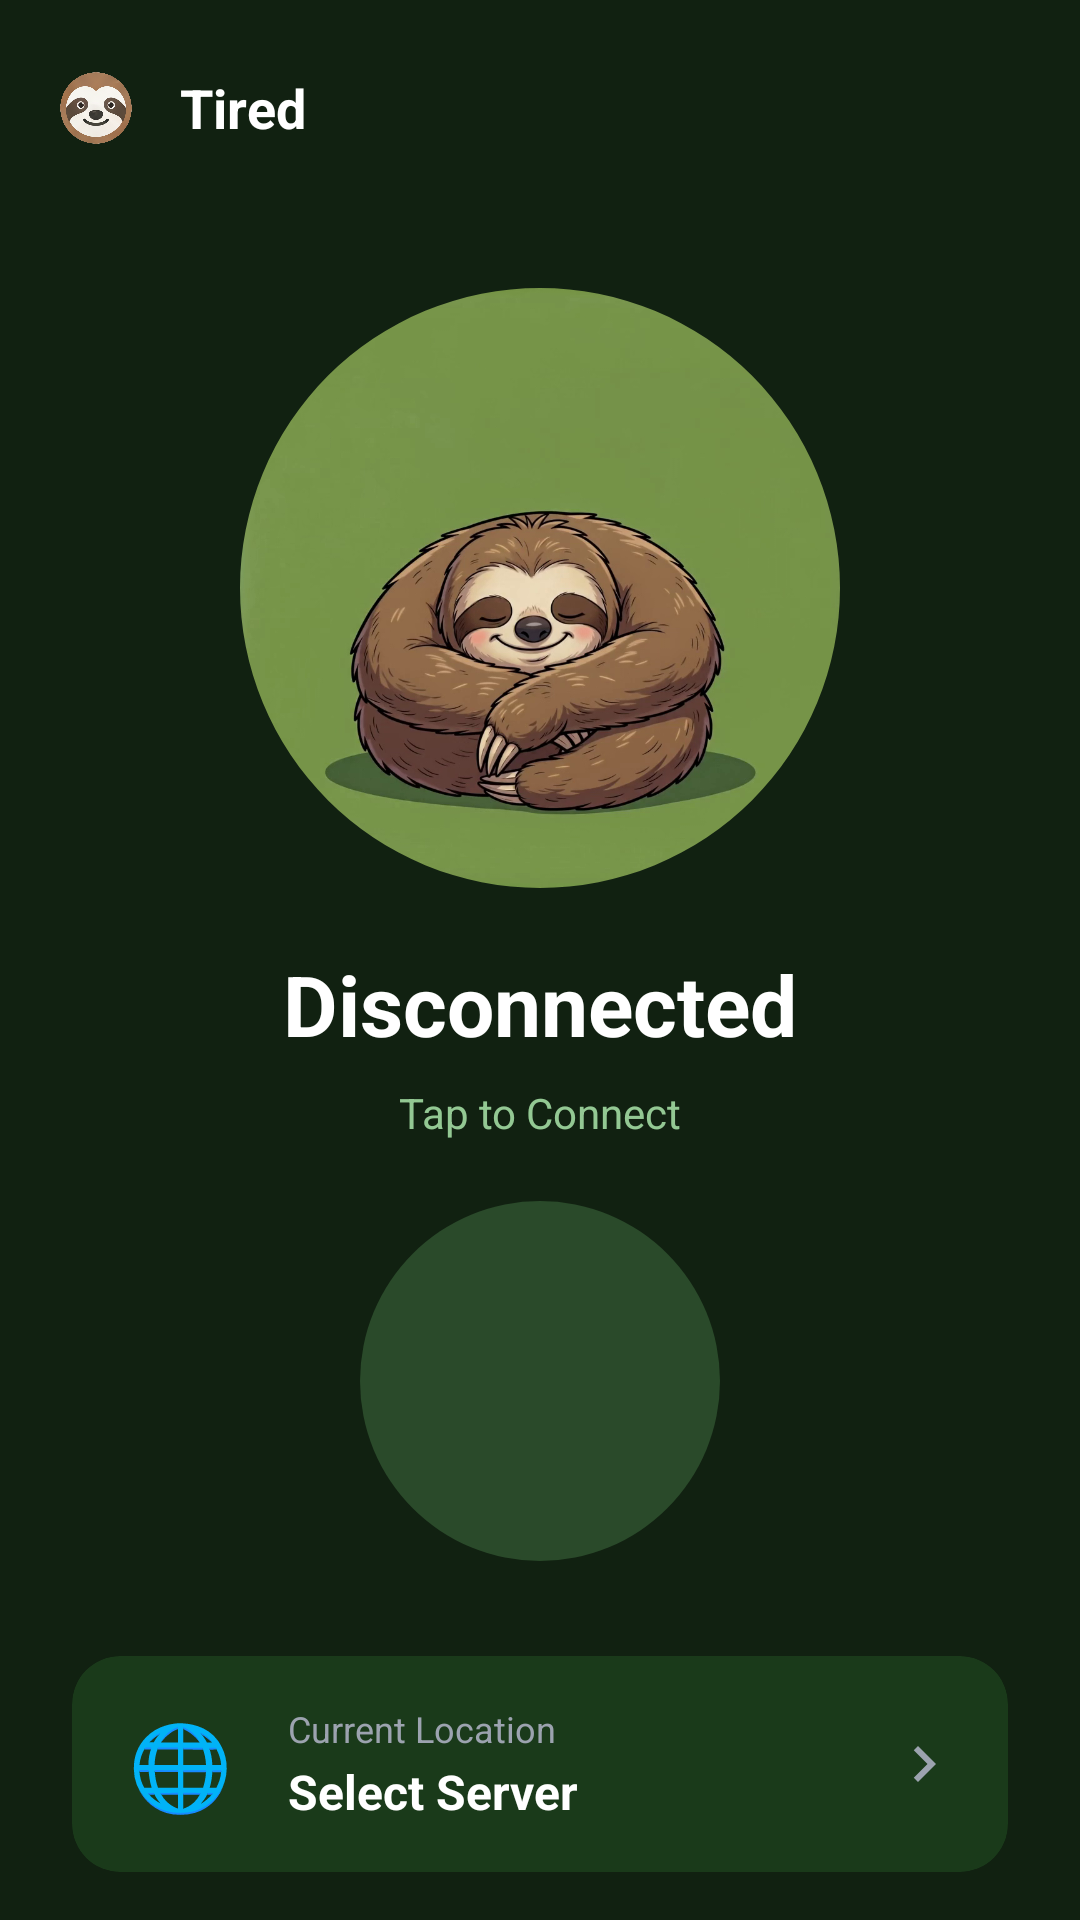

Named icons in this screenshot (1080w x 1920h) and their centers, (x,y):
chevron right: (925,1764)
